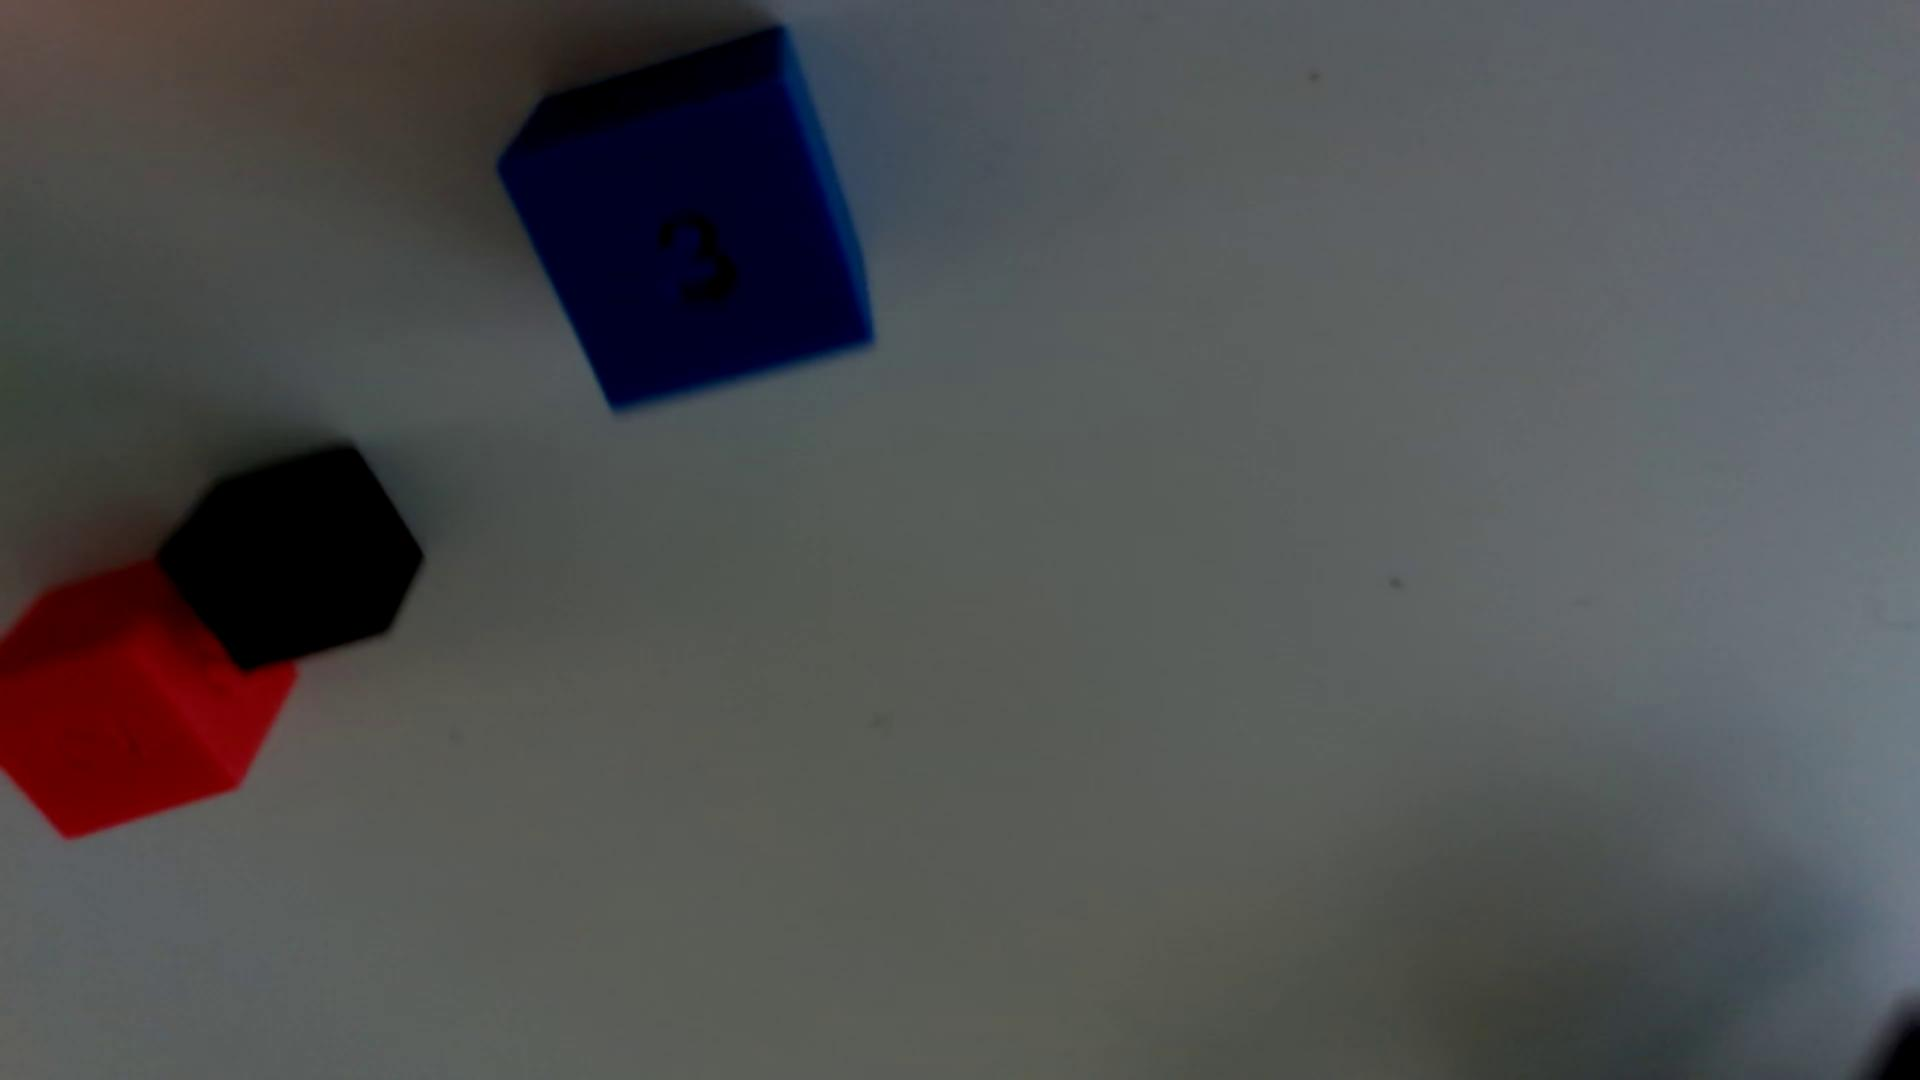black: (161, 446, 425, 669)
blue: (498, 28, 873, 409)
red: (0, 560, 298, 837)
